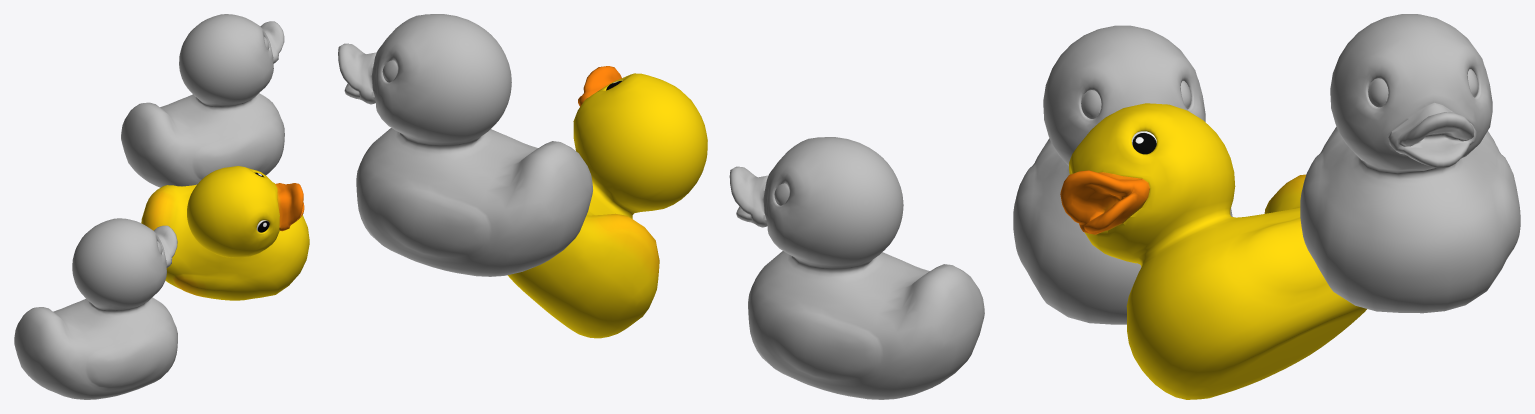
Rendered from effect_blinn_diffuse_texture.dae.
3 renders of one model, left to right at view 1: azimuth 30°, elevation 25°; view 2: azimuth 150°, elevation 25°; view 3: azimuth 270°, elevation 25°, orthographic. The views are drawn at different scales.
Visible parts, largest first — view 1: duck3, duck2, duck1; view 2: duck2, duck3, duck1; view 3: duck1, duck2, duck3.
Boxes of the visible parts, bbox=[...] form: duck3: bbox=[14, 218, 177, 399]; duck2: bbox=[121, 14, 284, 187]; duck1: bbox=[141, 166, 309, 300]; duck2: bbox=[338, 14, 592, 276]; duck3: bbox=[729, 137, 984, 399]; duck1: bbox=[508, 66, 707, 338]; duck1: bbox=[1060, 103, 1366, 399]; duck2: bbox=[1300, 14, 1520, 313]; duck3: bbox=[1013, 25, 1232, 324].
Size of the model in its own units: 365 by 254 by 265.
Materials: 2 (1 with a texture image).
